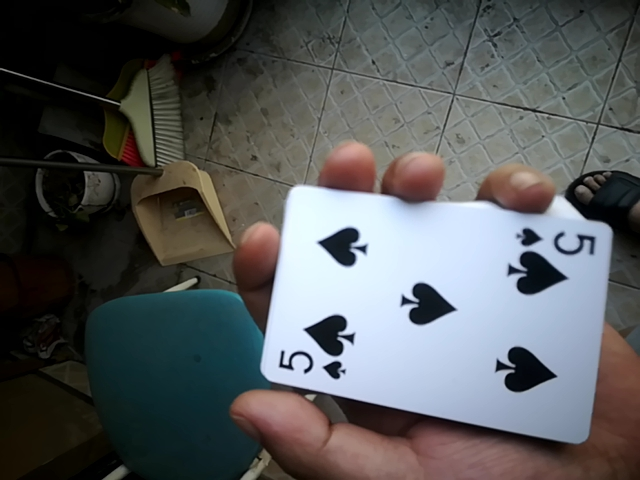ht 5: (259, 187, 614, 446)
